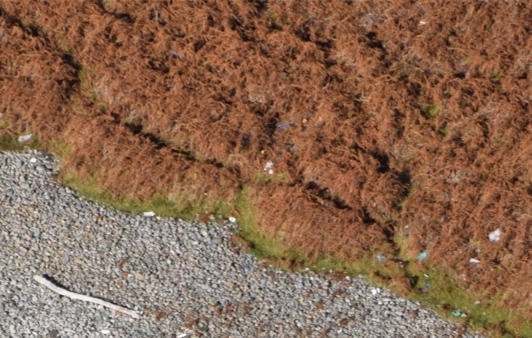scattered_barrel: (368, 221, 517, 320), (251, 110, 315, 182)
tube: (29, 270, 142, 323)
